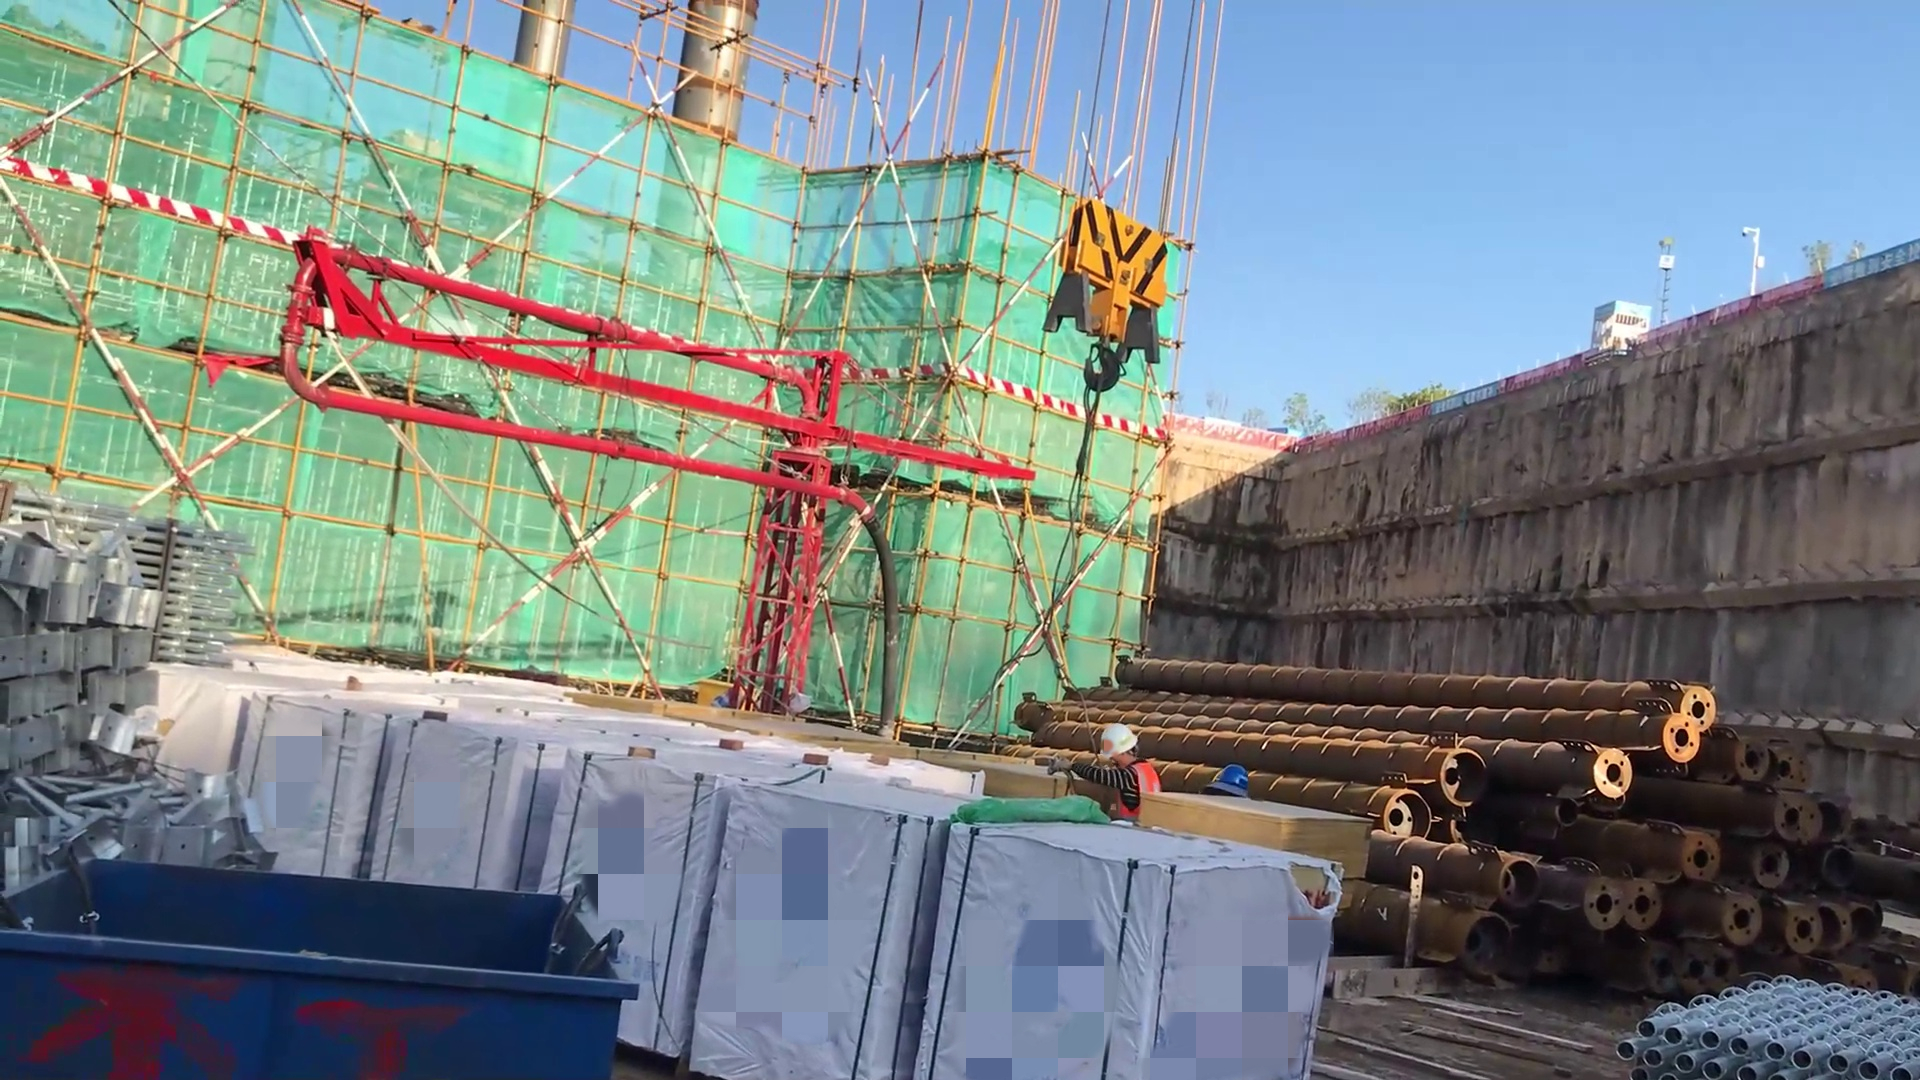board: (1123, 790, 1370, 895)
ebox: (684, 673, 779, 712)
helmet: (1081, 722, 1145, 779), (1200, 755, 1258, 815)
hook: (1033, 164, 1208, 417)
hopper: (1, 860, 626, 1079)
person: (1030, 726, 1171, 826)
scaffold: (1602, 941, 1912, 1080), (109, 509, 270, 676)
slogan: (1823, 226, 1920, 291), (1423, 369, 1525, 427)
vest: (1104, 763, 1171, 826)
